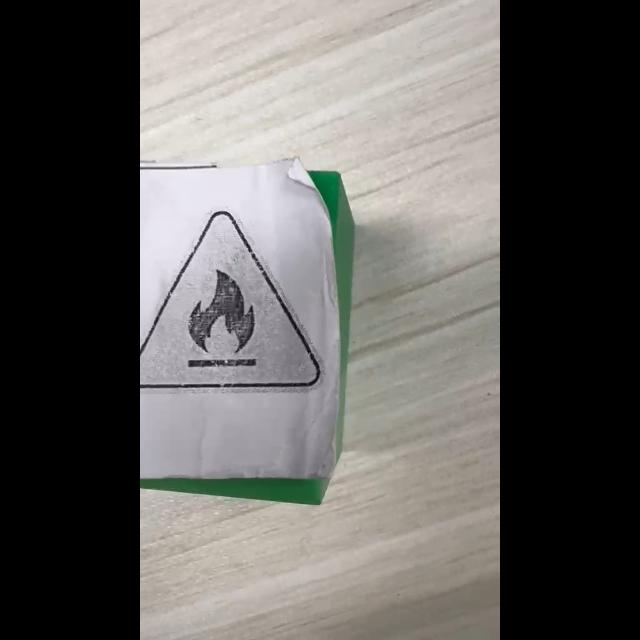Fire: (140, 211, 321, 389)
